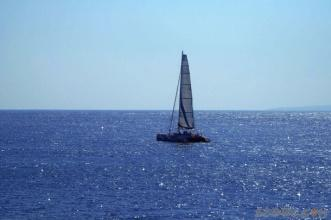fanchuan: (148, 46, 230, 144)
